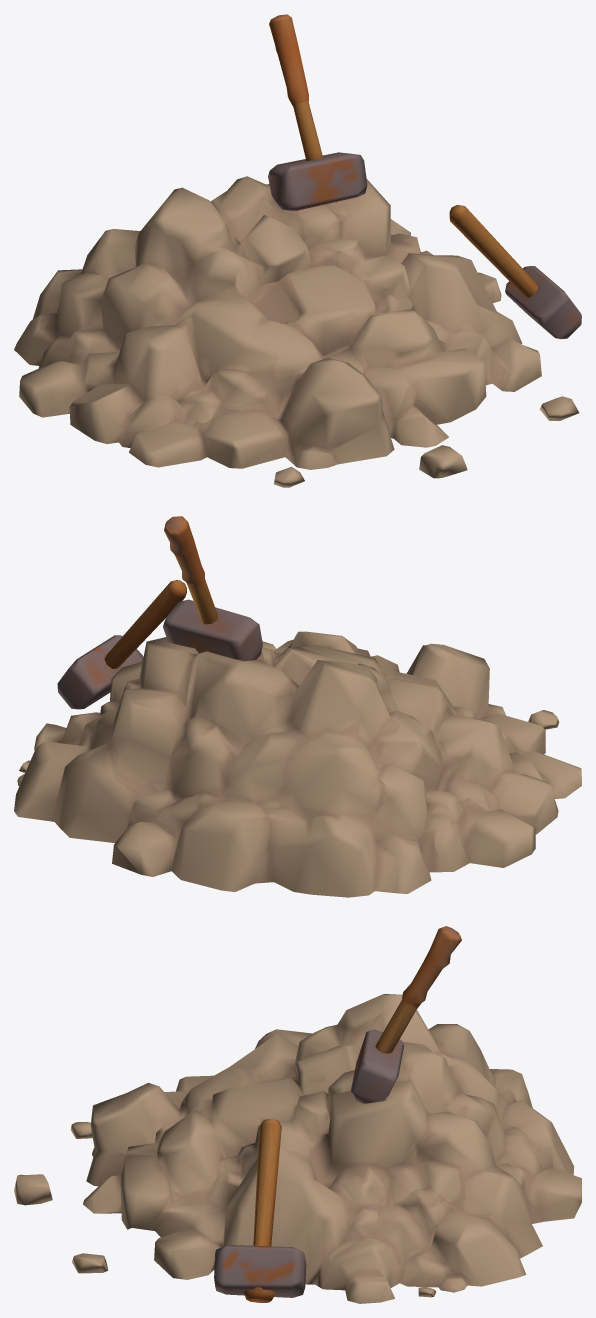
The model's file is map_rubbleheap_tripo.glb.
3 views of the same model, one above another, from view 1: azimuth 30°, elevation 25°; view 2: azimuth 150°, elevation 25°; view 3: azimuth 270°, elevation 25° (orthographic). The views are drawn at different scales.
Parts seen in each view (by area): view 1: tripo_node_5df8fc11-077f-439f-b271-5942ad7d7b7a; view 2: tripo_node_5df8fc11-077f-439f-b271-5942ad7d7b7a; view 3: tripo_node_5df8fc11-077f-439f-b271-5942ad7d7b7a.
Boxes of the visible parts, x1,y1,x2,y2 form: tripo_node_5df8fc11-077f-439f-b271-5942ad7d7b7a: (14,14,581,487); tripo_node_5df8fc11-077f-439f-b271-5942ad7d7b7a: (14,516,581,897); tripo_node_5df8fc11-077f-439f-b271-5942ad7d7b7a: (14,926,581,1303).
Bounding box in the file's own units: 0.9941 × 0.5645 × 0.998.
Materials: 1 (1 with a texture image).
